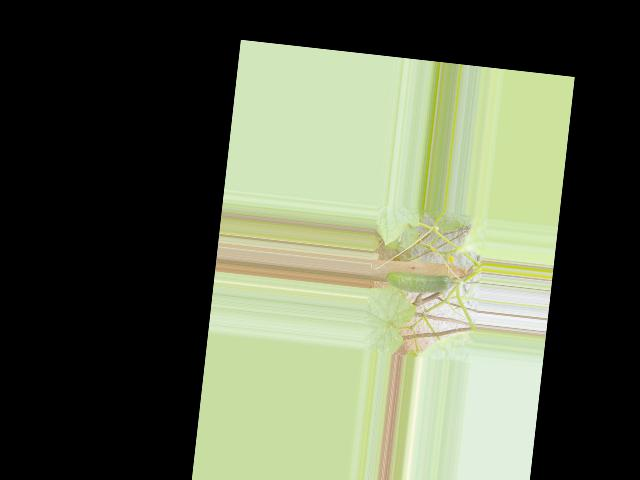cucumber: (384, 268, 452, 296)
